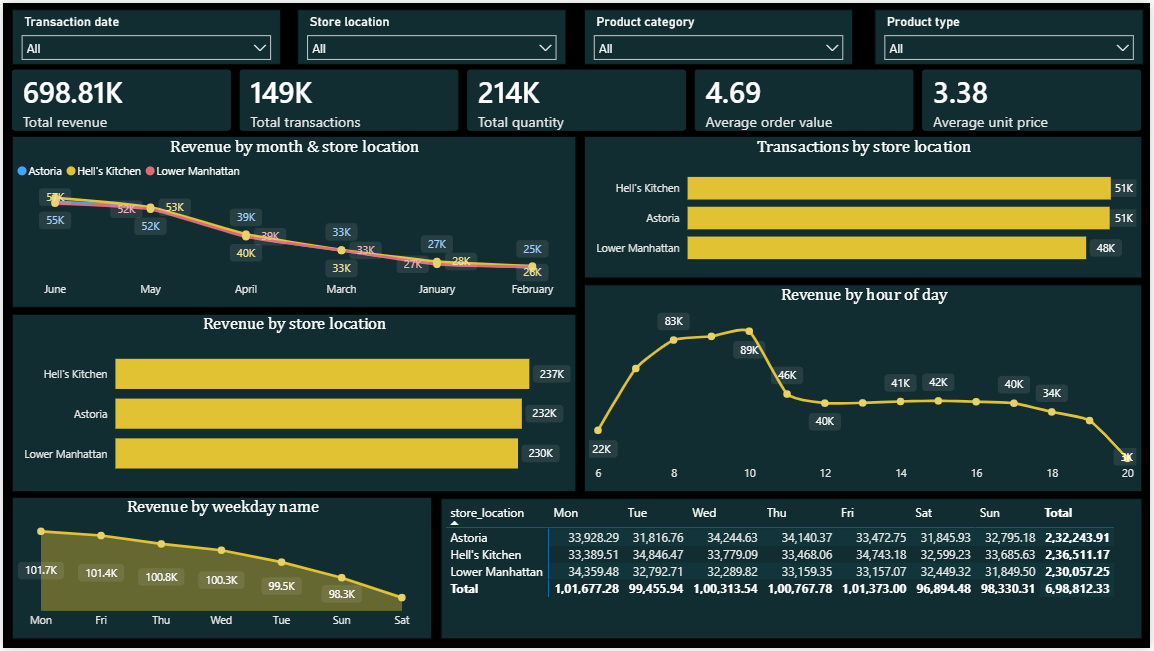

What the dashboard file says about the page in this screenshot:
{"tool":"powerbi","page":{"name":"TIME & STORE ANALYSIS","canvas":[1280,720],"ordinal":2},"visuals":[{"type":"cardVisual","fields":{"Data":["Transactions.total revenue","Transactions.total teansactions","Transactions.total quantity","Transactions.average_order_value","Transactions.average_unit_price"]},"box":[0,68.6,1280,80],"z":0},{"type":"lineChart","title":"Revenue by month & store location","fields":{"Category":["Transactions.month_name"],"Y":["Transactions.total revenue"],"Series":["Transactions.store_location"]},"box":[10,148.6,630,191.4],"z":1000},{"type":"barChart","title":"Revenue by store location","fields":{"Y":["Transactions.total revenue"],"Category":["Transactions.store_location"]},"box":[10,347.1,630,198.6],"z":2000},{"type":"barChart","title":" Transactions by store location","fields":{"Y":["Transactions.total teansactions"],"Category":["Transactions.store_location"]},"box":[648.6,148.6,622.9,158.6],"z":3000},{"type":"stackedAreaChart","title":"Revenue by weekday name","fields":{"Category":["Transactions.weekday name"],"Y":["Transactions.total revenue"]},"box":[10,551.4,468.6,158.6],"z":4000},{"type":"lineChart","title":"Revenue by hour of day","fields":{"Y":["Transactions.total revenue"],"Category":["Transactions.hour"]},"box":[648.6,314.3,622.9,231.4],"z":5000},{"type":"pivotTable","fields":{"Rows":["Transactions.store_location"],"Columns":["Transactions.weekday name"],"Values":["Transactions.total revenue"]},"box":[488.6,552.9,782.9,157.1],"z":6000},{"type":"slicer","fields":{"Values":["Transactions.transaction_date"]},"box":[10,7.1,300,61.4],"z":7000},{"type":"slicer","fields":{"Values":["Transactions.product_category"]},"box":[648.6,7.1,300,61.4],"z":8000},{"type":"slicer","fields":{"Values":["Transactions.store_location"]},"box":[328.6,7.1,300,61.4],"z":9000},{"type":"slicer","fields":{"Values":["Transactions.product_type"]},"box":[972.9,7.1,300,61.4],"z":10000}]}

Visuals, with their boxes in screenshot pixels (x1, y1, x2, y2), scaled from the page's 1280x720 canvas onto the 1154x651 screenshot:
cardVisual - Transactions.total revenue x Transactions.total teansactions: region(0, 62, 1153, 134)
"Revenue by month & store location" lineChart: region(9, 134, 577, 307)
"Revenue by store location" barChart: region(9, 314, 577, 493)
" Transactions by store location" barChart: region(585, 134, 1146, 278)
"Revenue by weekday name" stackedAreaChart: region(9, 499, 431, 642)
"Revenue by hour of day" lineChart: region(585, 284, 1146, 493)
pivotTable - Transactions.store_location x Transactions.weekday name: region(441, 500, 1146, 642)
slicer - Transactions.transaction_date: region(9, 6, 279, 62)
slicer - Transactions.product_category: region(585, 6, 855, 62)
slicer - Transactions.store_location: region(296, 6, 567, 62)
slicer - Transactions.product_type: region(877, 6, 1148, 62)
